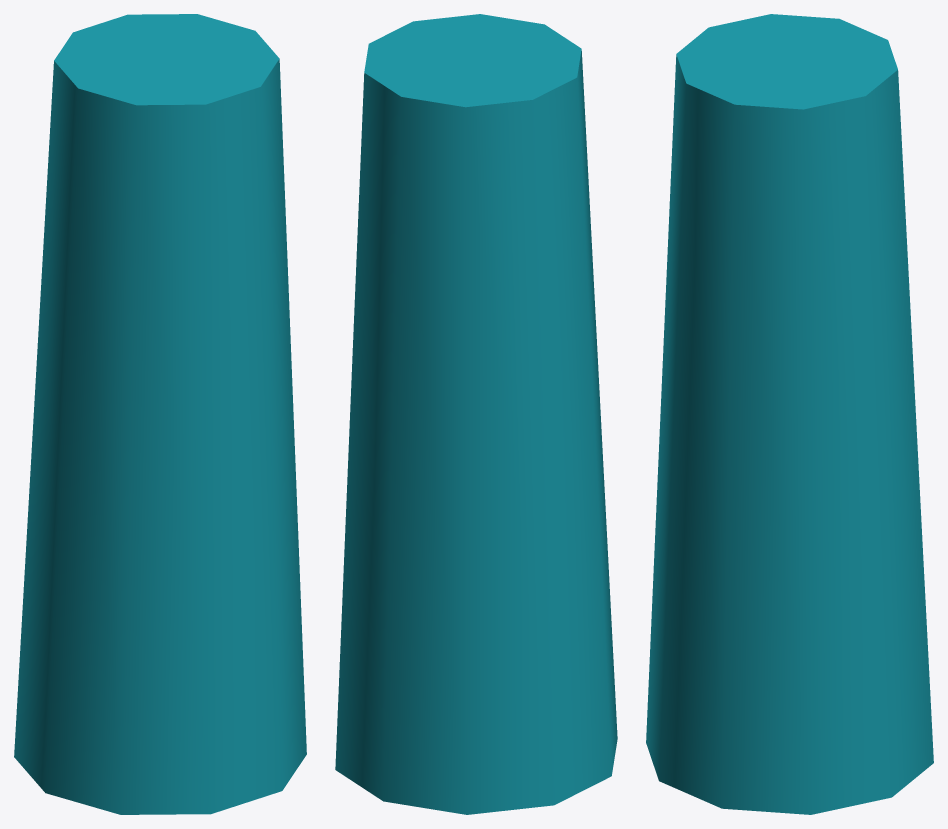
Rendered from Blocker_Edge.fbx.
The picture shows the model from 3 angles, left to right: view 1: azimuth 30°, elevation 25°; view 2: azimuth 150°, elevation 25°; view 3: azimuth 270°, elevation 25°; orthographic projection.
Visible parts, largest first — view 1: Blocker_Edge; view 2: Blocker_Edge; view 3: Blocker_Edge.
Part boxes in pixels (x1,y1,x2,y2): Blocker_Edge: (14,14,306,814); Blocker_Edge: (335,14,617,814); Blocker_Edge: (646,14,933,814).
Bounding box in the file's own units: 1.07 × 2.83 × 1.06.
